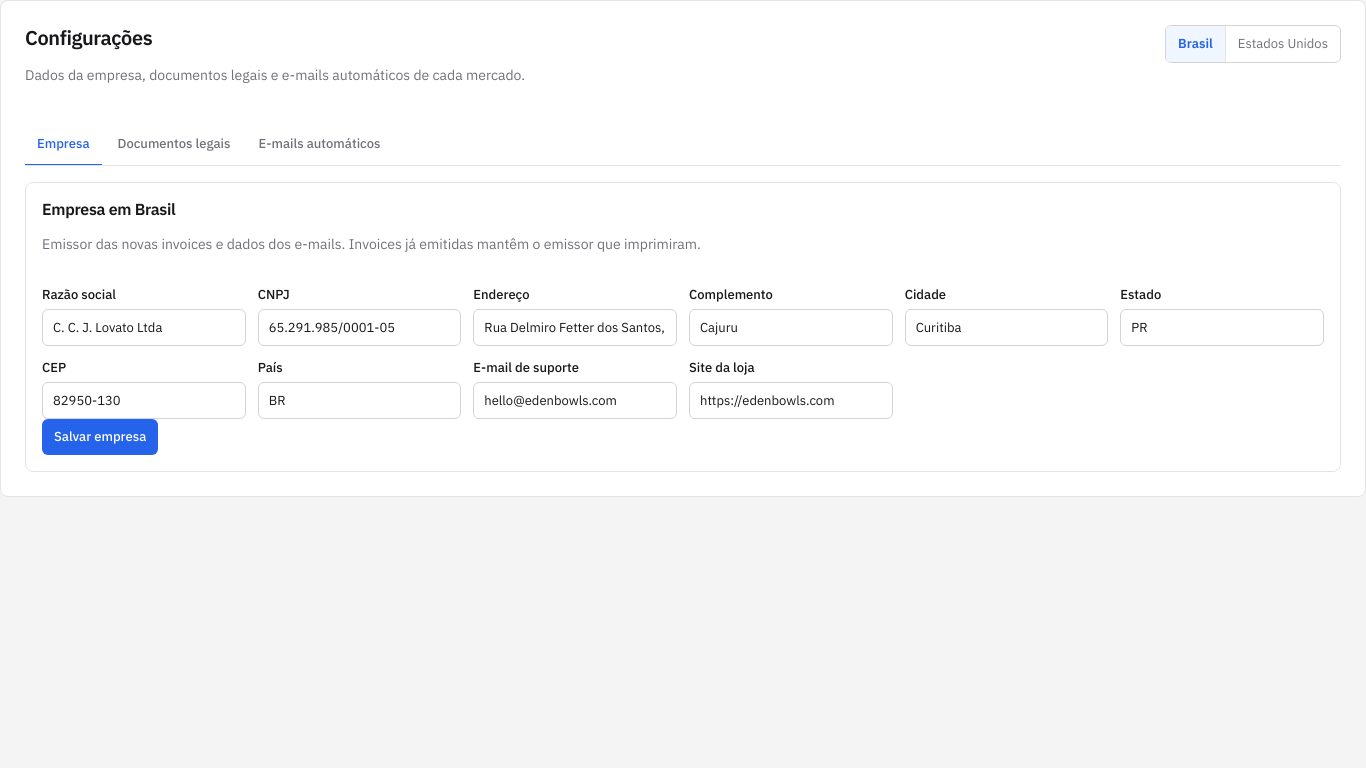
Test: SettingsPage › Invalid CNPJ: marks the field the API lists
Replace the text in the field labelled "CNPJ" with "11.111.111/1111-11". click: (360, 327)
box: [258,309,461,346]
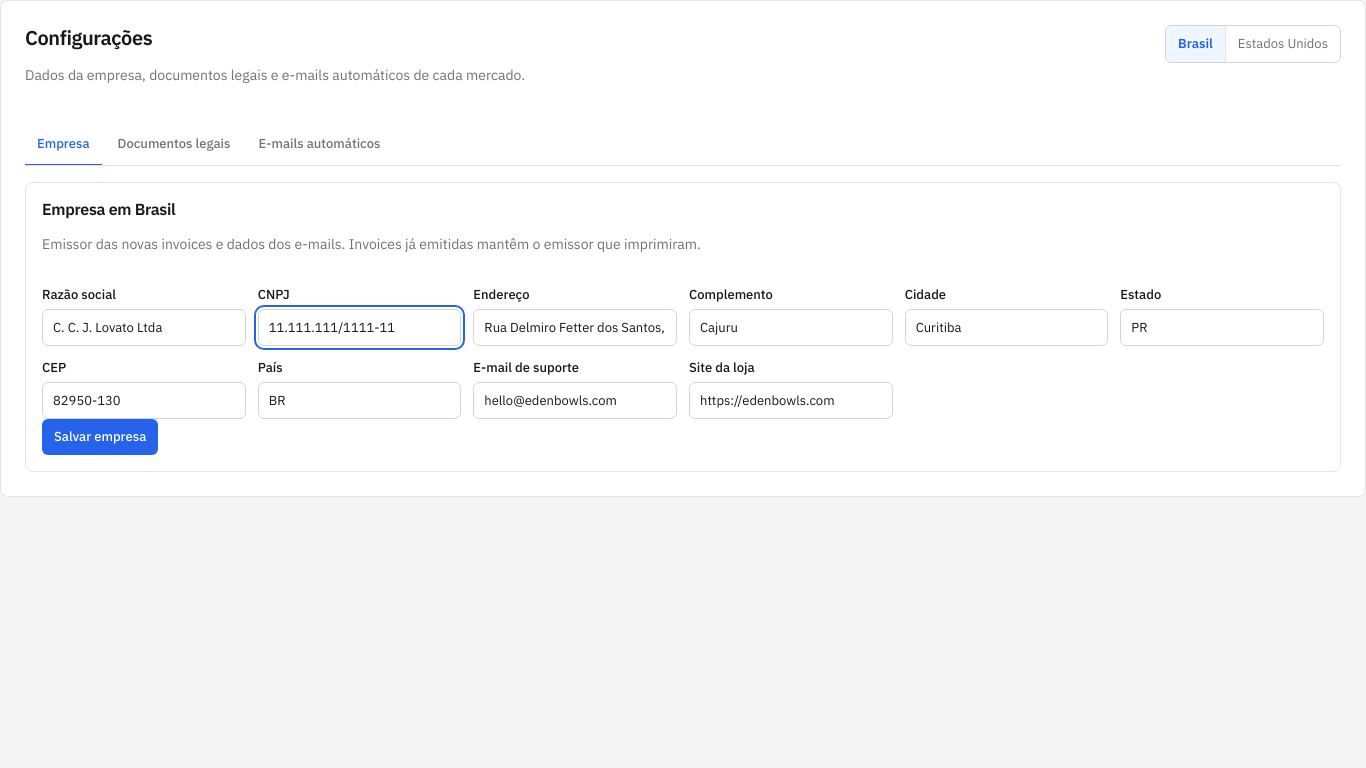
Click the button "Salvar empresa". click: (100, 437)
box: [42,419,158,455]
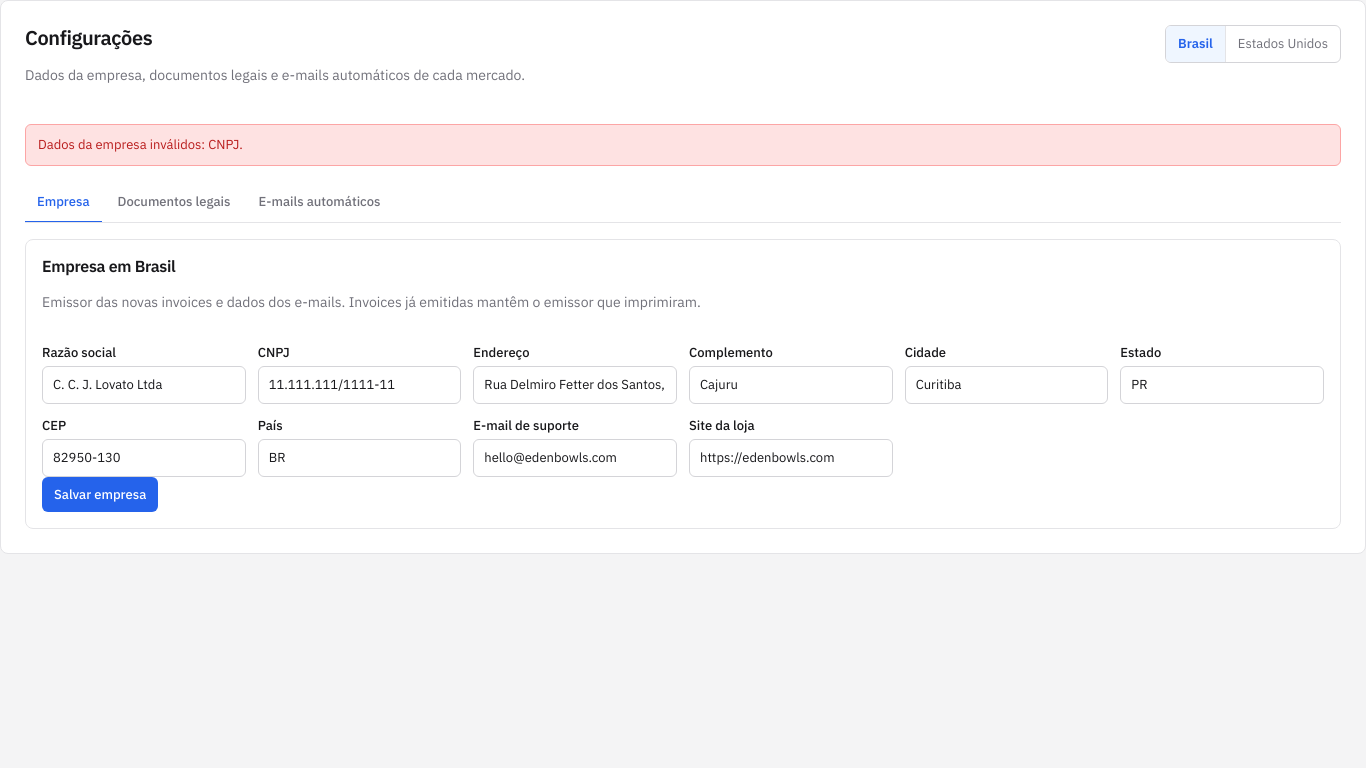
Check: the message reads "Dados da empresa inválidos: CNPJ.", box [38,136,243,153]
